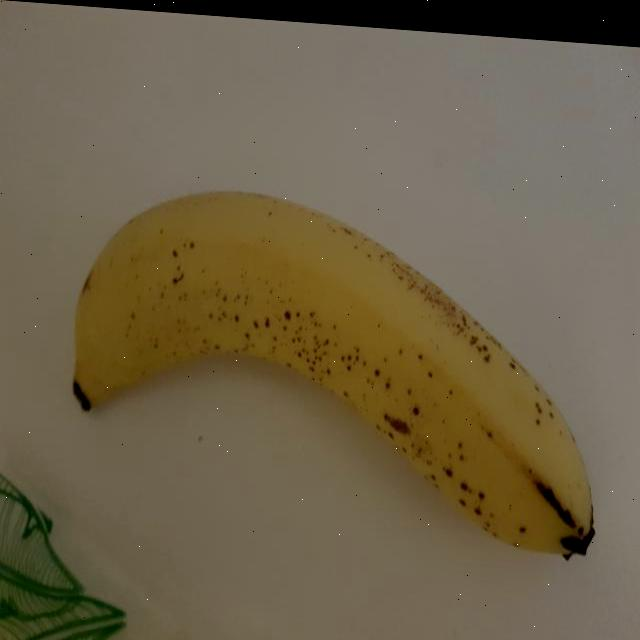banana: (69, 173, 598, 565)
